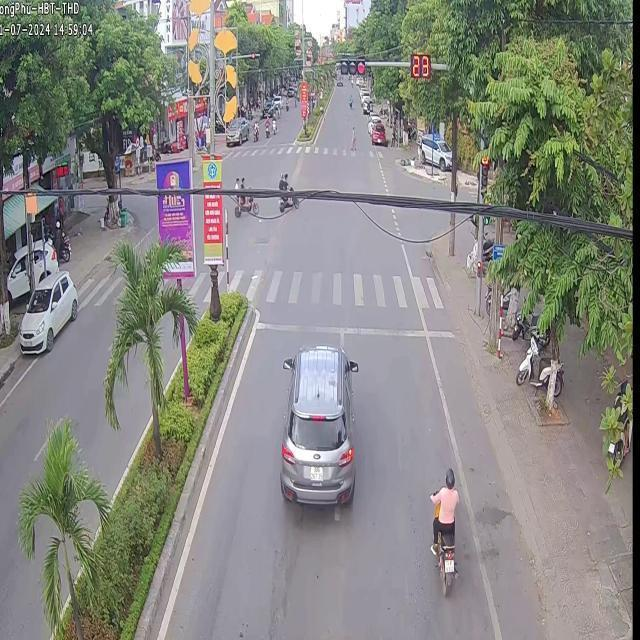car: (278, 342, 357, 504)
motobike: (428, 467, 458, 594)
red_light: (338, 56, 364, 74), (479, 154, 488, 194)
stop_line: (254, 320, 454, 337)
